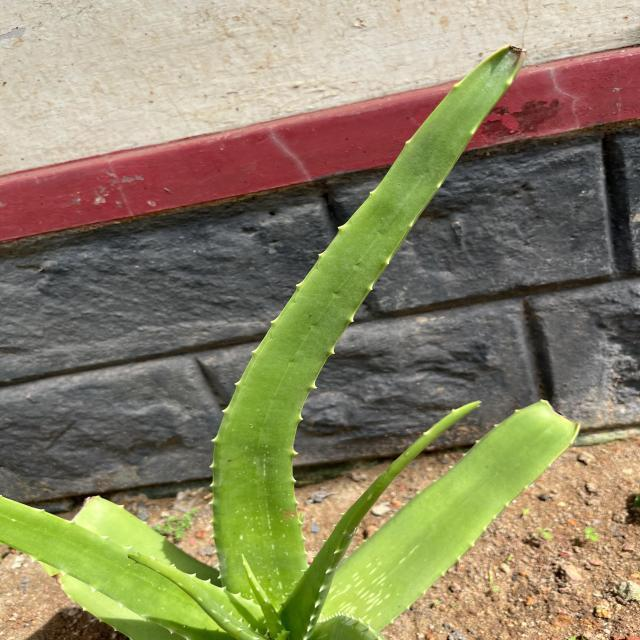Aloe vera: (203, 41, 534, 606)
